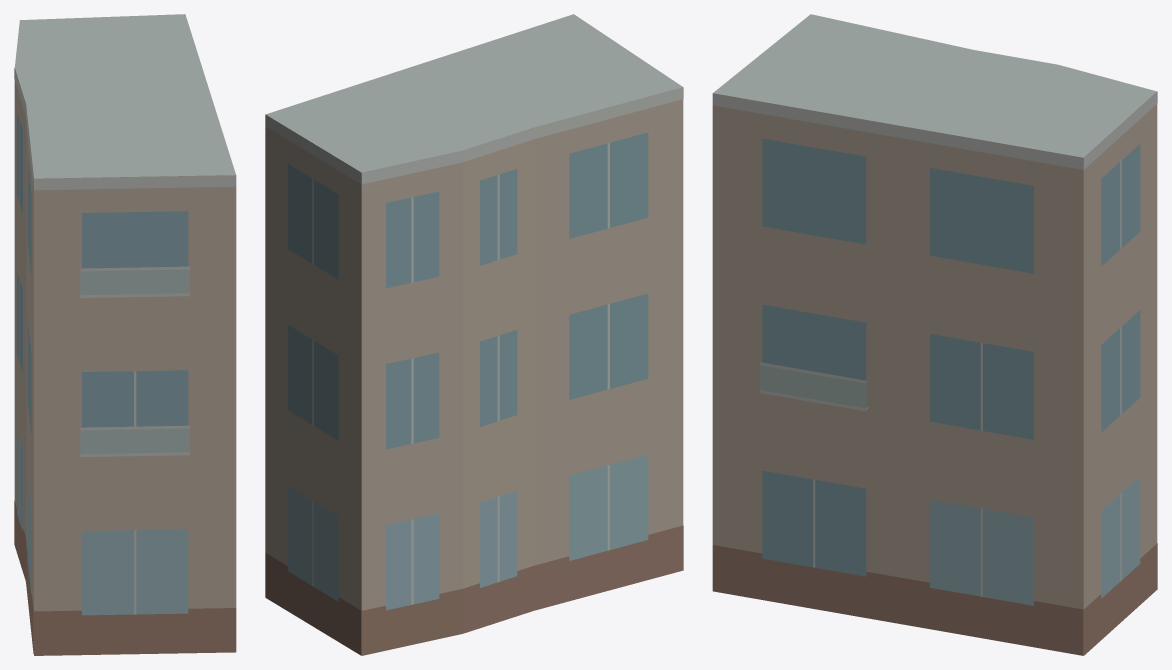
The model's file is survey-upis-32492313.glb.
3 renders of one model, left to right at view 1: azimuth 30°, elevation 25°; view 2: azimuth 150°, elevation 25°; view 3: azimuth 270°, elevation 25°, orthographic. The views are drawn at different scales.
Parts seen in each view (by area): view 1: survey-upis-32492313.tmp; view 2: survey-upis-32492313.tmp; view 3: survey-upis-32492313.tmp.
Part boxes in pixels (x1,y1,x2,y2): survey-upis-32492313.tmp: (14,14,236,655); survey-upis-32492313.tmp: (265,14,683,655); survey-upis-32492313.tmp: (712,14,1157,655).
Size of the model in its own units: 6.2 by 10 by 8.1.
